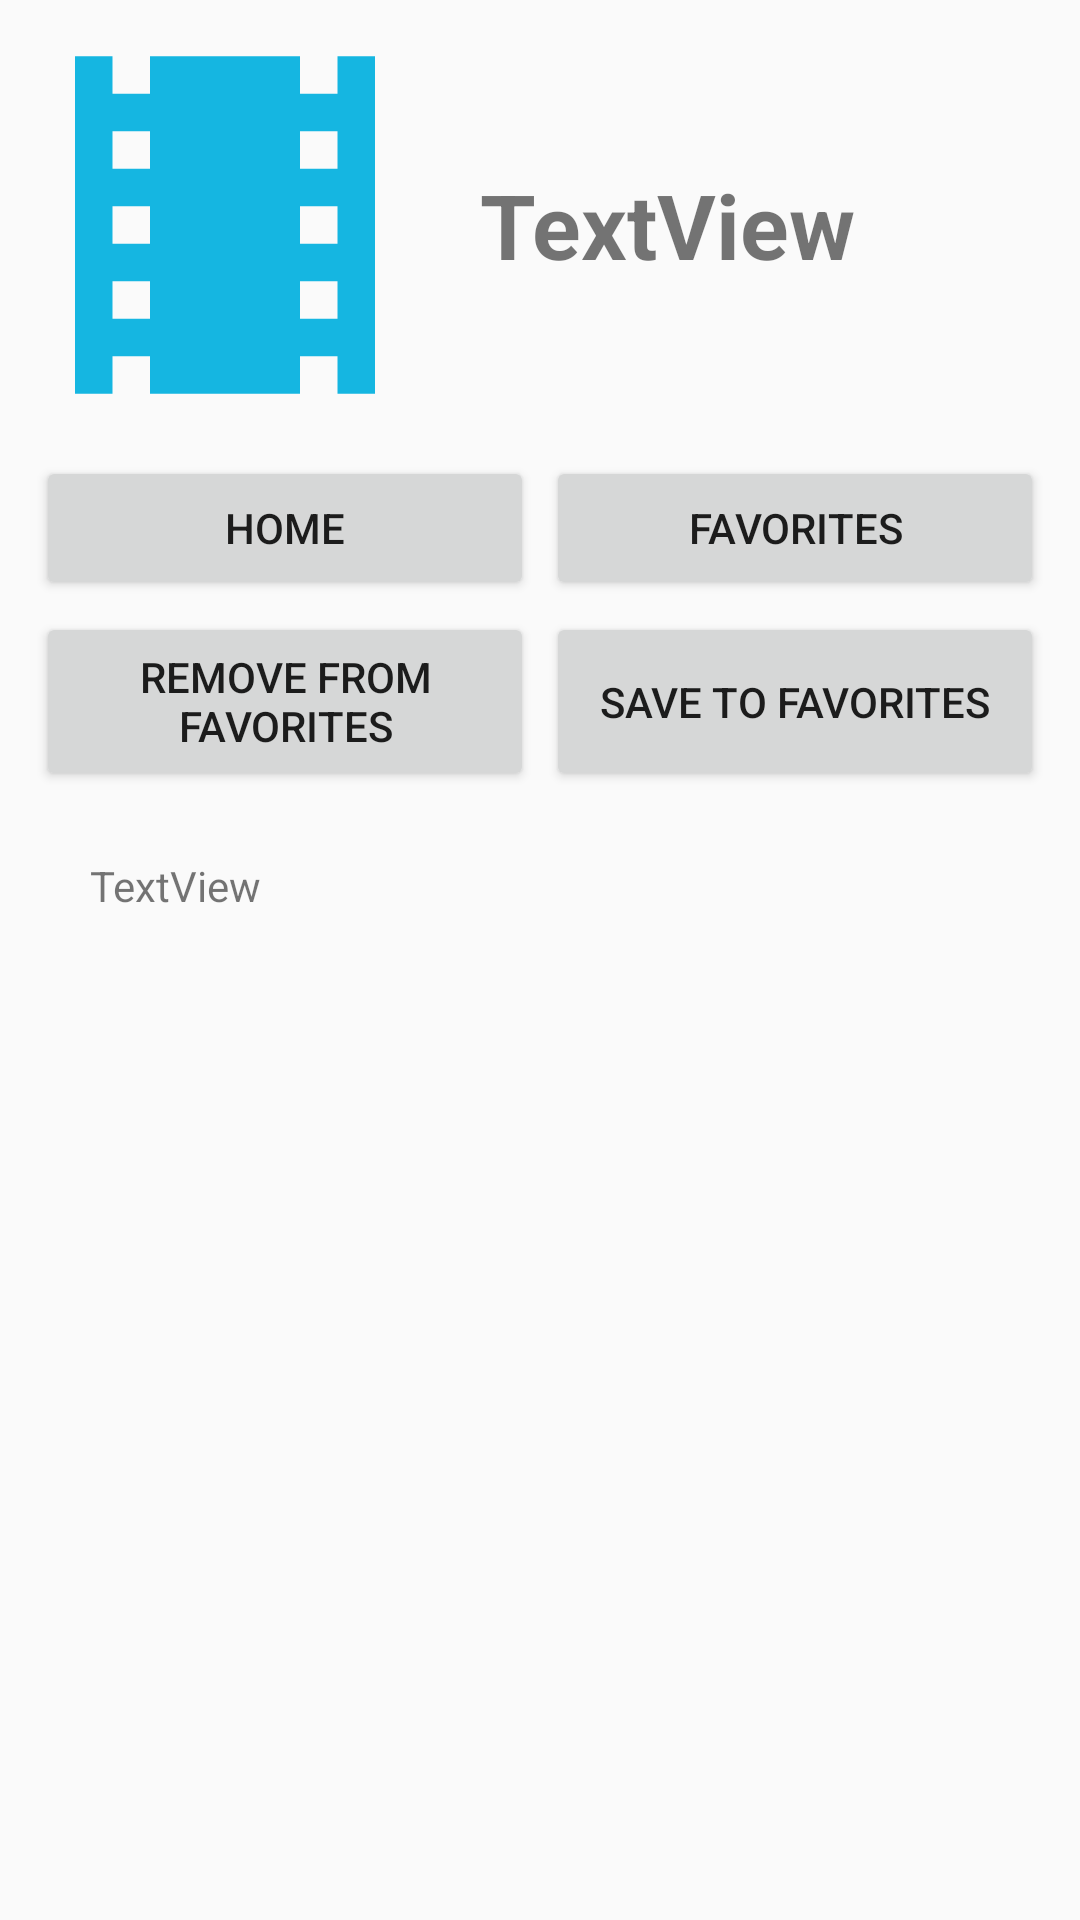

Icon click points for this 1080w x 1920h phone screenshot, format (x,y):
movie: (225,225)
